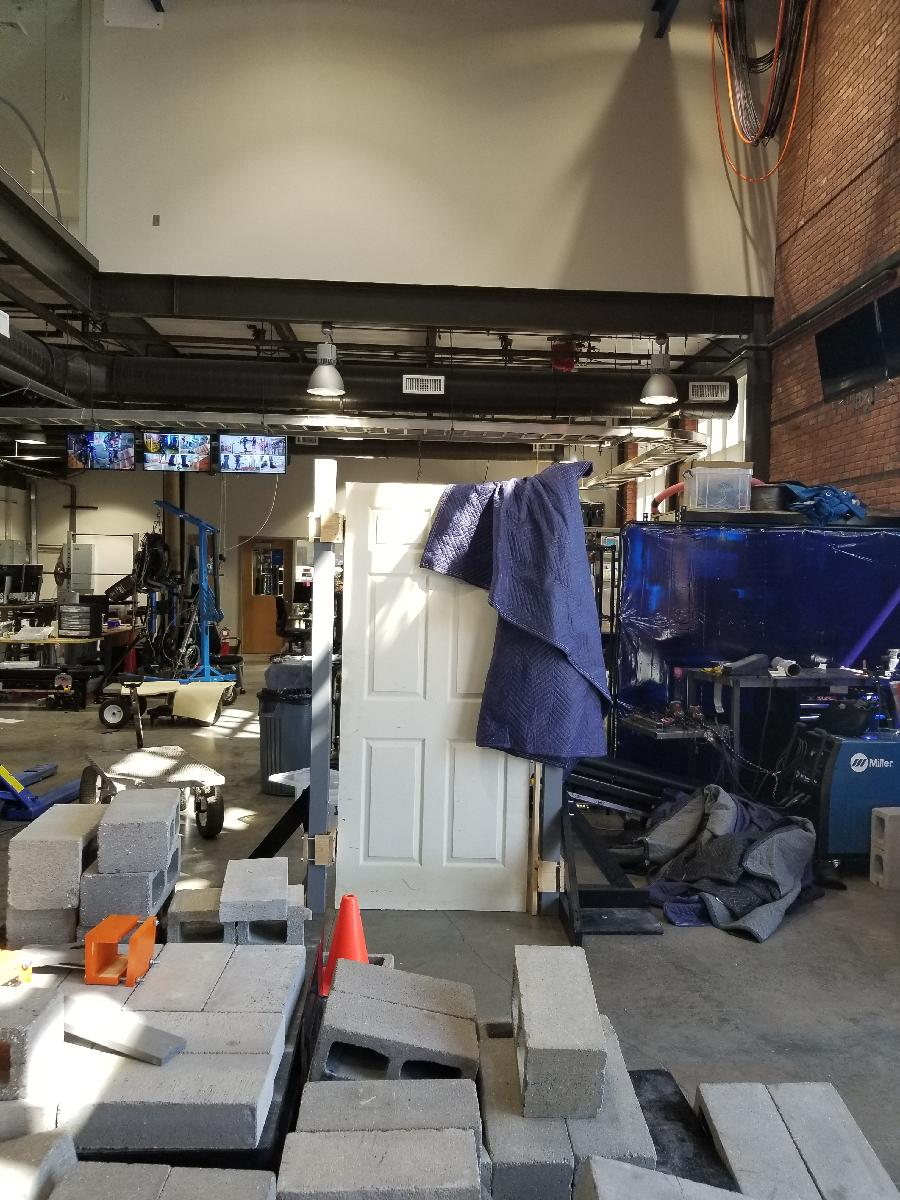door: (332, 472, 537, 921)
doorHandle: (495, 709, 523, 738)
